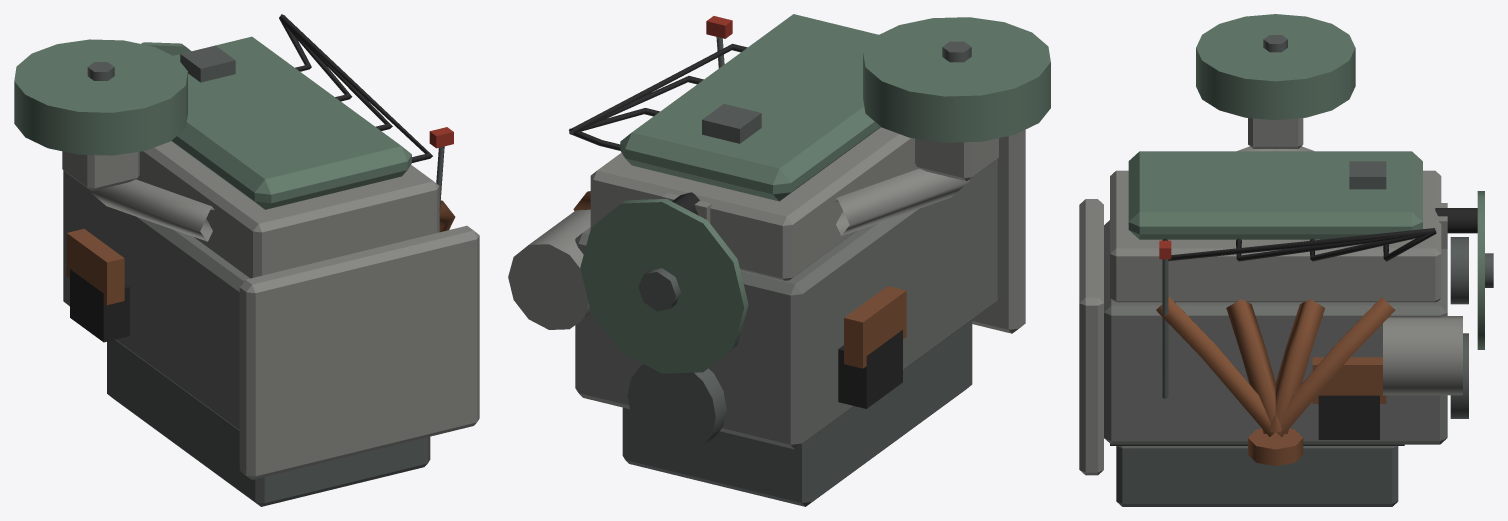
Rendered from part_engine_1_6.glb.
3 renders of one model, left to right at view 1: azimuth 30°, elevation 25°; view 2: azimuth 150°, elevation 25°; view 3: azimuth 270°, elevation 25°, orthographic. The views are drawn at different scales.
Visible parts, largest first — view 1: part_engine_1_6; view 2: part_engine_1_6; view 3: part_engine_1_6.
Boxes of the visible parts, x1,y1,x2,y2 form: part_engine_1_6: [14, 14, 479, 506]; part_engine_1_6: [508, 14, 1050, 506]; part_engine_1_6: [1079, 14, 1493, 506].
Bounding box in the file's own units: 0.5148 × 0.468 × 0.486.
